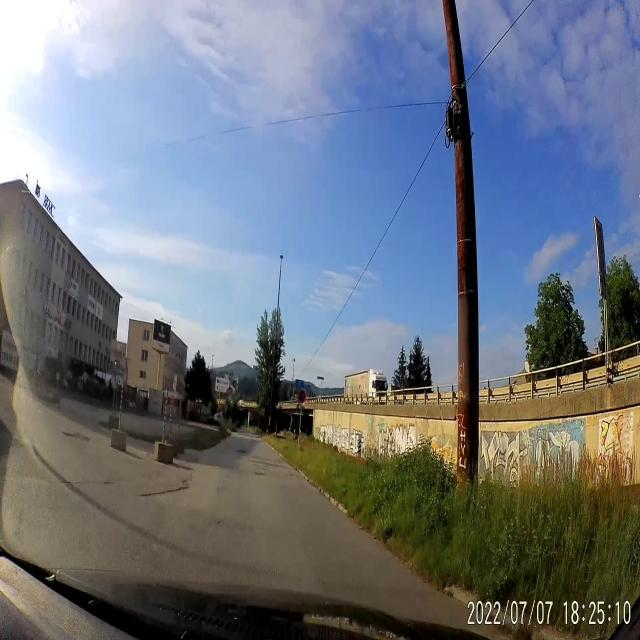Pothole: (60, 419, 94, 454), (232, 441, 252, 460)
